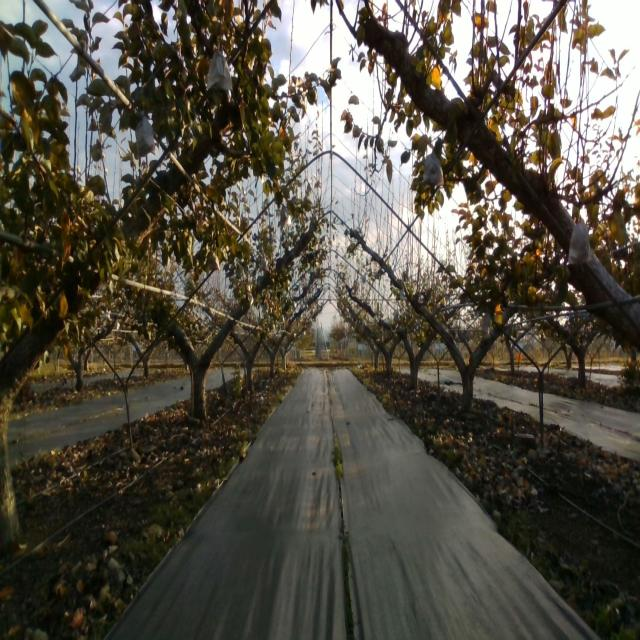pearbags: (207, 40, 233, 92), (568, 219, 591, 265), (135, 109, 155, 159), (423, 151, 444, 186), (279, 202, 293, 232), (205, 250, 221, 272), (481, 310, 492, 340)
